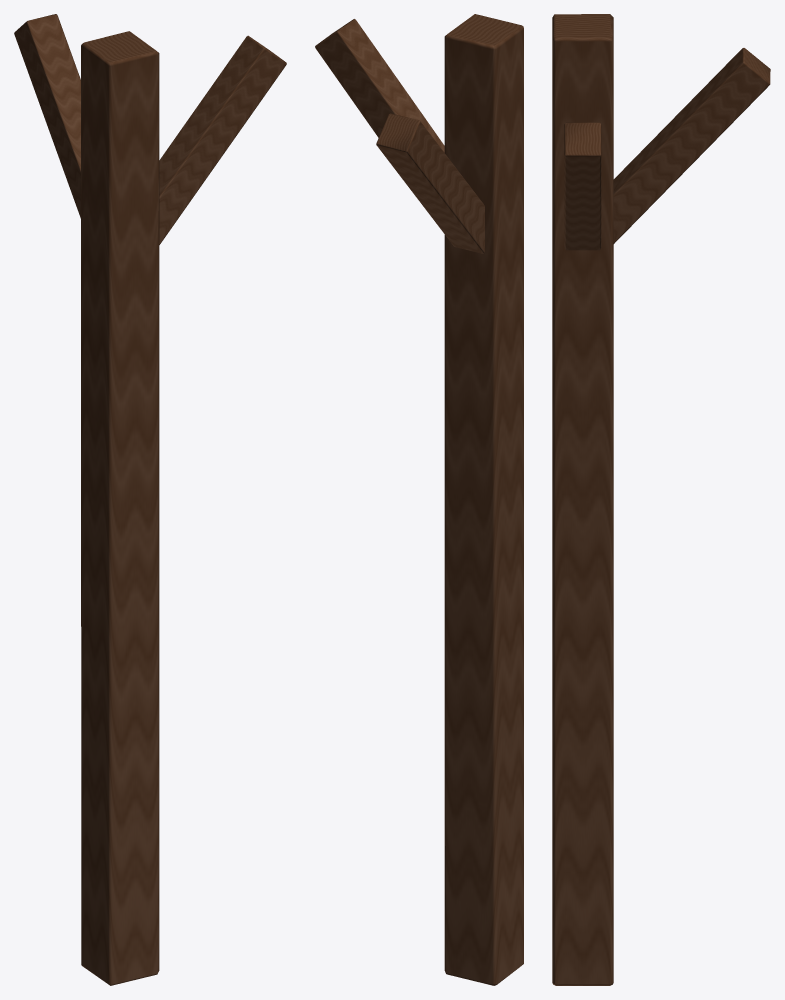
File: corner_post.gltf
3 renders of one model, left to right at view 1: azimuth 30°, elevation 25°; view 2: azimuth 150°, elevation 25°; view 3: azimuth 270°, elevation 25°, orthographic. The views are drawn at different scales.
Size of the model in its own units: 0.4999 by 2.4 by 0.4999.
Materials: 1 (1 with a texture image).
